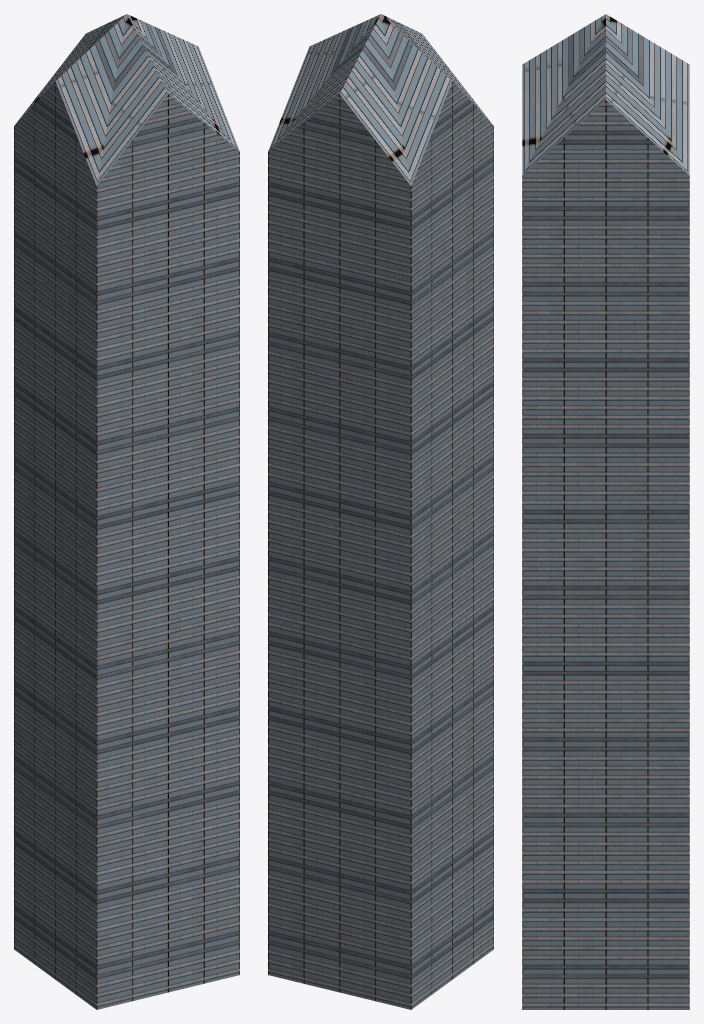
3 renders of one model, left to right at view 1: azimuth 30°, elevation 25°; view 2: azimuth 150°, elevation 25°; view 3: azimuth 270°, elevation 25°, orthographic.
Parts seen in each view (by area): view 1: Building_steepleTop; view 2: Building_steepleTop; view 3: Building_steepleTop.
Part boxes in pixels (left/top/right/bottom): Building_steepleTop: left=14, top=14, right=239, bottom=1009; Building_steepleTop: left=268, top=14, right=493, bottom=1009; Building_steepleTop: left=522, top=14, right=689, bottom=1009.
Bounding box in the file's own units: 3000 × 19000 × 3000.
1 material, 1 textured.
